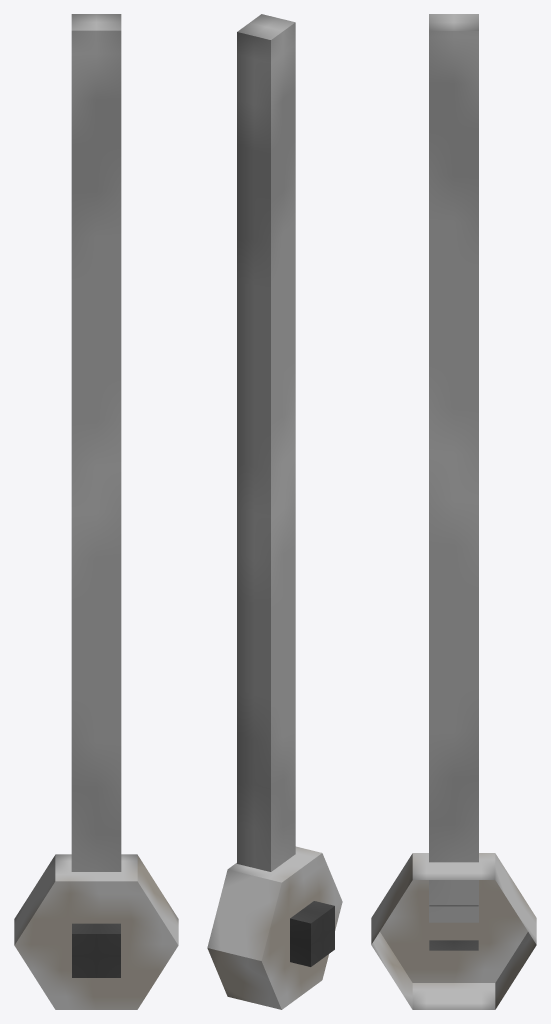
Rendered from obj_lightSwitch_115.fbx.
The picture shows the model from 3 angles, left to right: view 1: azimuth 90°, elevation 25°; view 2: azimuth 150°, elevation 25°; view 3: azimuth 270°, elevation 25°; orthographic projection.
Parts seen in each view (by area): view 1: obj_lightSwitch_115; view 2: obj_lightSwitch_115; view 3: obj_lightSwitch_115.
Part boxes in pixels (x1,y1,x2,y2): obj_lightSwitch_115: [14, 14, 178, 1009]; obj_lightSwitch_115: [207, 14, 342, 1009]; obj_lightSwitch_115: [371, 14, 536, 1009].
Bounding box in the file's own units: 7.46 × 91.04 × 13.95.
